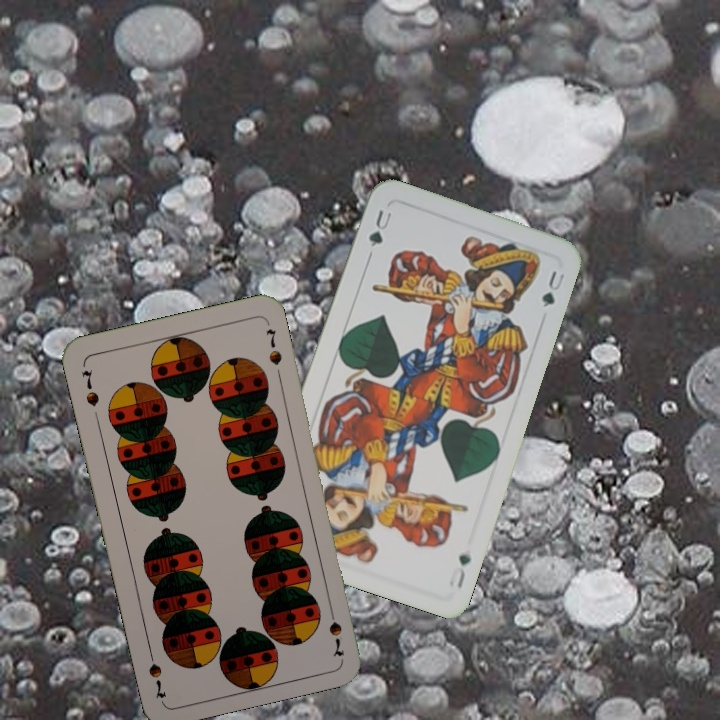GU: (364, 205, 395, 251), (453, 549, 474, 591)
S7: (324, 601, 347, 659), (77, 365, 102, 409)
